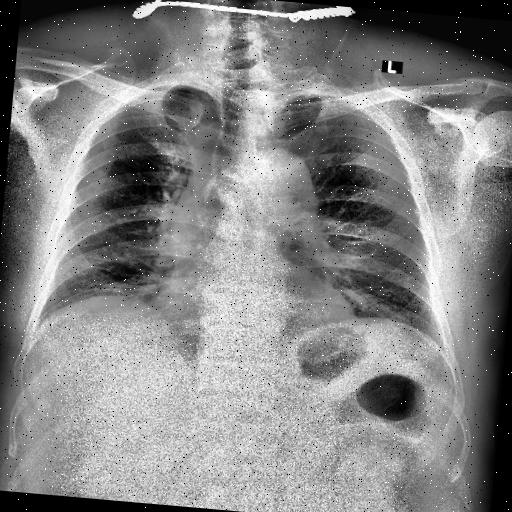0- Aortic enlargement: (248, 148, 322, 228), (244, 144, 320, 214), (250, 146, 320, 212)
13- Pulmonary fibrosis: (84, 268, 162, 298)
